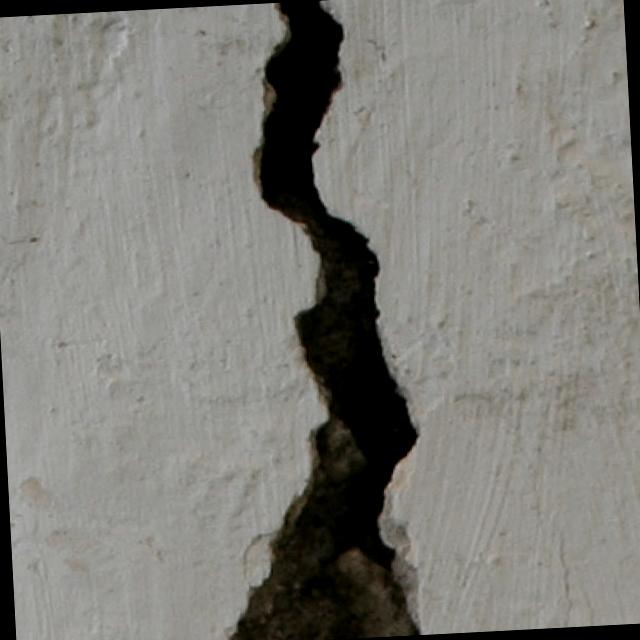spall: (188, 0, 437, 640)
